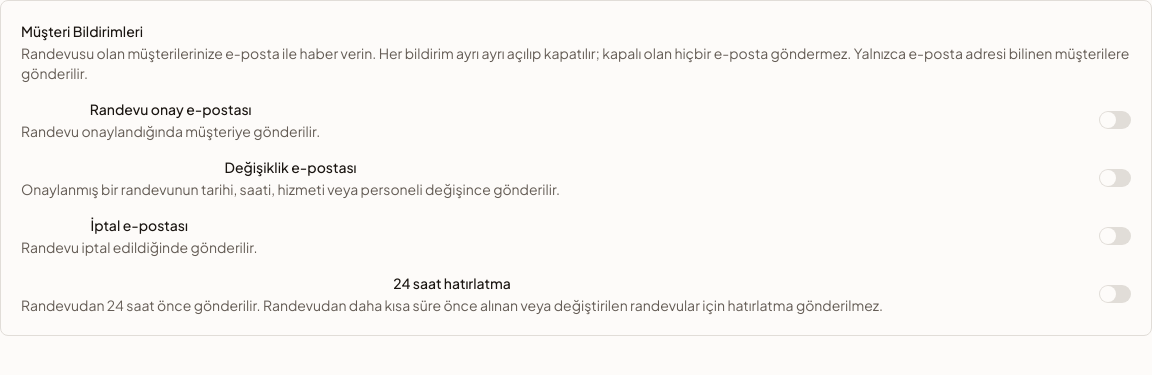
Test: the card › turning one switch on sends exactly that one change and moves only on the server's confirmation
Click the switch in the row of "Değişiklik e-postası".
click(1115, 178)  # box [1099, 169, 1131, 187]
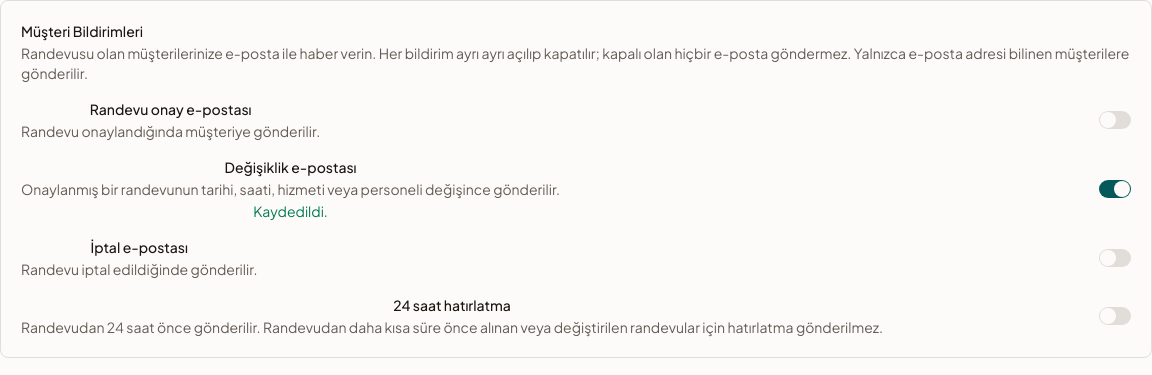
Check: the text "Kaydedildi." is shown, box [253, 201, 328, 221]
